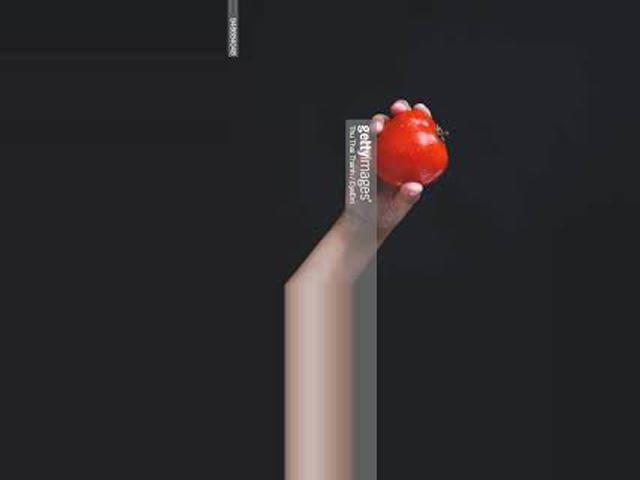tomato: (372, 108, 447, 184)
